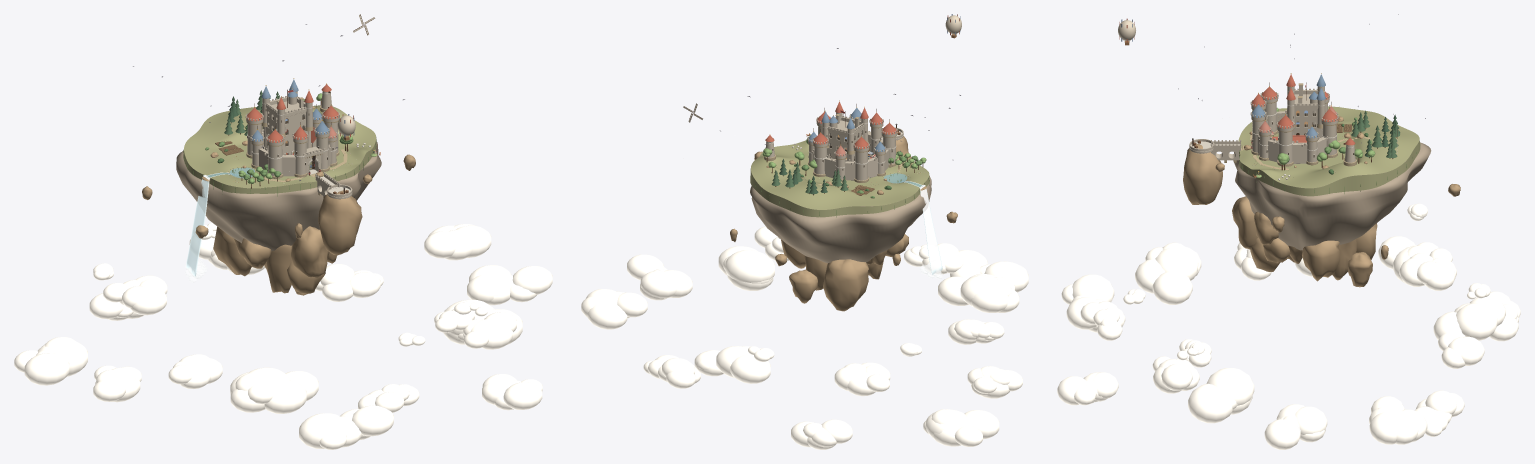
3 views of the same model, side by side, from view 1: azimuth 30°, elevation 25°; view 2: azimuth 150°, elevation 25°; view 3: azimuth 270°, elevation 25° (orthographic). The views are drawn at different scales.
Visible parts, largest first — view 1: IslandRock, Terrain, Cloud10, Cloud11, Cloud0, Cloud7, DockRock, Cloud1, Cloud6, Cloud2, Cloud13, Cloud14 (+14 smaller); view 2: Terrain, IslandRock, Cloud10, Cloud7, Cloud1, Cloud0, Cloud15, FloatRock1, Cloud6, Cloud4, Cloud11, Cloud5 (+8 smaller); view 3: IslandRock, Terrain, Cloud10, Cloud15, Cloud4, Cloud1, Cloud0, Cloud6, DockRock, Cloud11, Cloud13, Cloud2 (+16 smaller).
Part boxes in pixels (box(x1,y1,x2,y2)): IslandRock: box(176, 142, 381, 251); Terrain: box(183, 105, 376, 193); Cloud10: box(230, 367, 318, 413); Cloud11: box(299, 405, 393, 449); Cloud0: box(467, 265, 552, 305); Cloud7: box(14, 337, 87, 385); DockRock: box(318, 190, 362, 255); Cloud1: box(424, 224, 491, 260); Cloud6: box(103, 275, 167, 315); Cloud2: box(315, 264, 383, 301); Cloud13: box(482, 374, 542, 410); Cloud14: box(463, 312, 516, 349); Terrain: box(750, 140, 929, 217); IslandRock: box(750, 176, 931, 263); Cloud10: box(938, 274, 1019, 312); Cloud7: box(923, 409, 999, 446); Cloud1: box(581, 289, 647, 329); Cloud0: box(627, 254, 692, 300); Cloud15: box(718, 246, 774, 290); FloatRock1: box(823, 259, 868, 311); Cloud6: box(834, 362, 890, 396); Cloud4: box(716, 346, 770, 383); Cloud11: box(950, 250, 1028, 292); Cloud5: box(791, 419, 852, 449); IslandRock: box(1233, 142, 1431, 250); Terrain: box(1238, 106, 1420, 196); Cloud10: box(1135, 242, 1201, 304); Cloud15: box(1188, 368, 1254, 423); Cloud4: box(1433, 295, 1505, 340); Cloud1: box(1369, 396, 1427, 444); Cloud0: box(1264, 404, 1327, 449); Cloud6: box(1399, 248, 1456, 290); DockRock: box(1183, 144, 1222, 204); Cloud11: box(1061, 274, 1114, 332); Cloud13: box(1057, 372, 1118, 405); Cloud2: box(1414, 390, 1464, 436).
Size of the model in its own units: 183 by 124 by 158.
